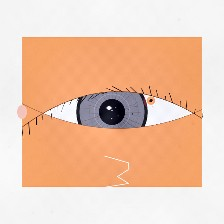foreign_body_visible: (142, 93, 160, 108)
